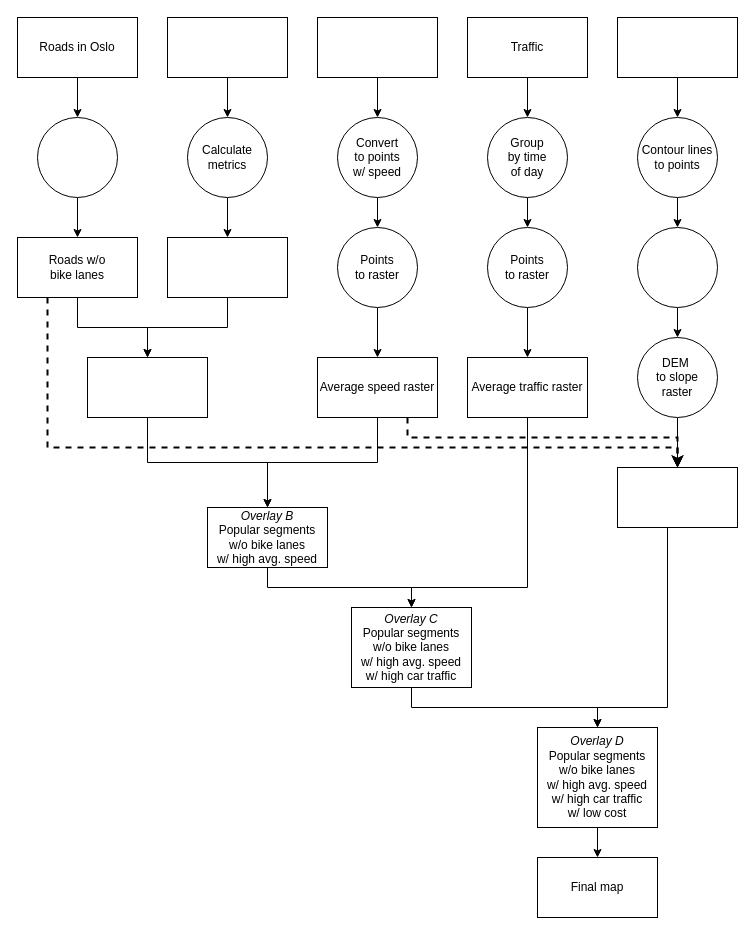
Image size: 755x935. Some labels were removed from this diagram. Here are the shapes that lost their labels. From the top down, the box of each, then its label:
(166, 16, 288, 78): Strava Segments
(316, 16, 438, 78): Strava Activities
(616, 16, 738, 78): Elevation
(36, 116, 118, 198): Filter
(166, 236, 288, 298): Segments w/ popularity score
(636, 226, 718, 308): Points to DEM
(86, 356, 208, 418): Overlay A Popular segments w/o bike lanes
(616, 466, 738, 528): Cost layer
